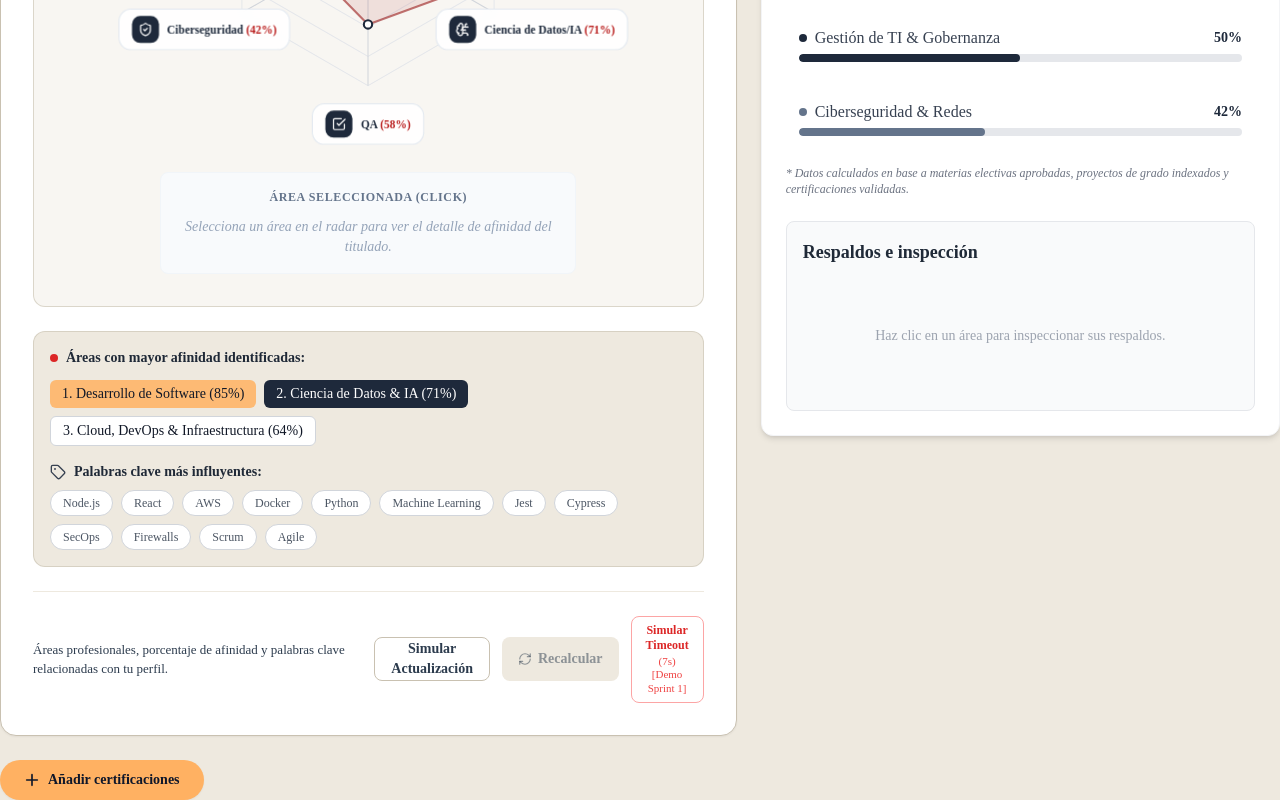
Test: GraduateAffinityView › actualiza las palabras clave después de recalcular
The width and height of the screenshot is (1280, 800).
(page scrolled)
Check: the text "Node.js" is shown, box left=50, top=490, right=113, bottom=516
Check: the text "React" is shown, box left=121, top=490, right=174, bottom=516
What coordinates should you click on to do the following:
click the button with aria-label "simular actualización del radar"
I would click on:
 (432, 659)
Its box is left=374, top=637, right=490, bottom=681.
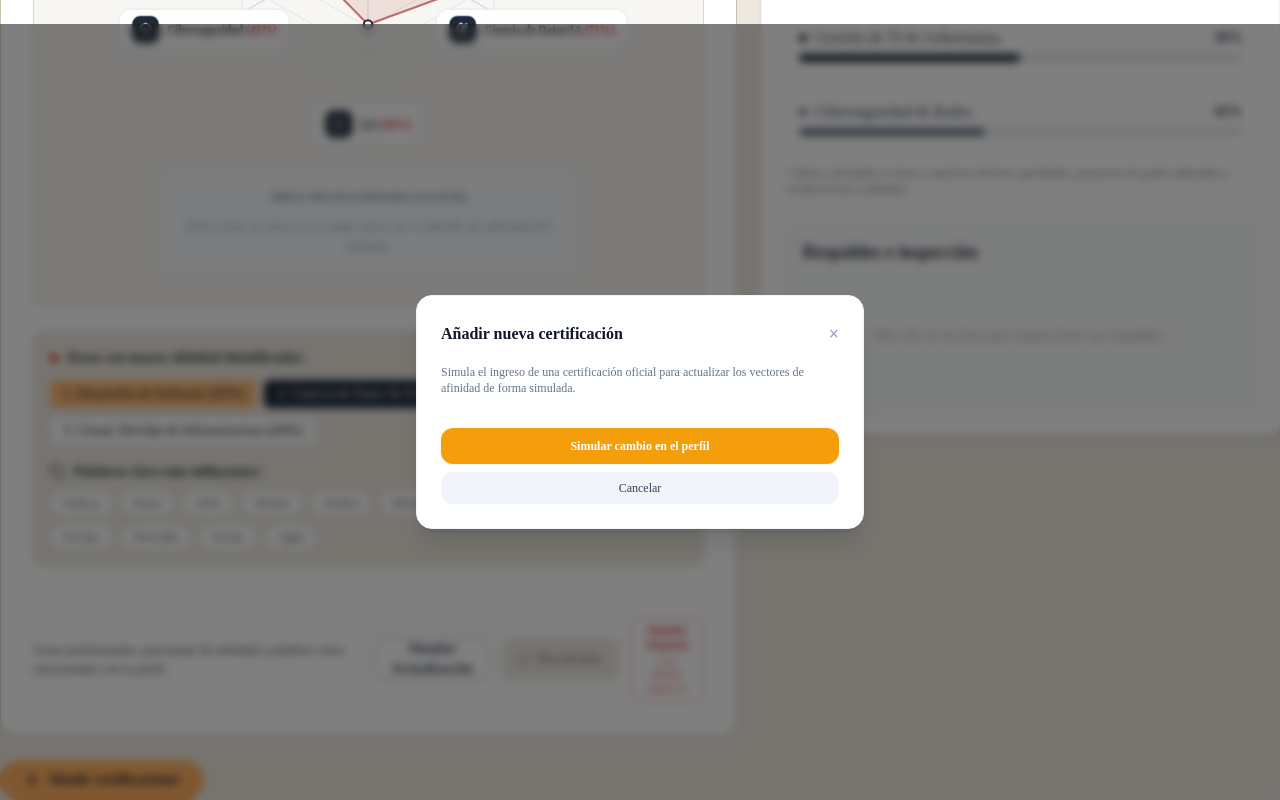
What coordinates should you click on to do the following:
click the button "Simular cambio en el perfil"
I would click on:
 (640, 446)
Its box is left=441, top=428, right=839, bottom=464.
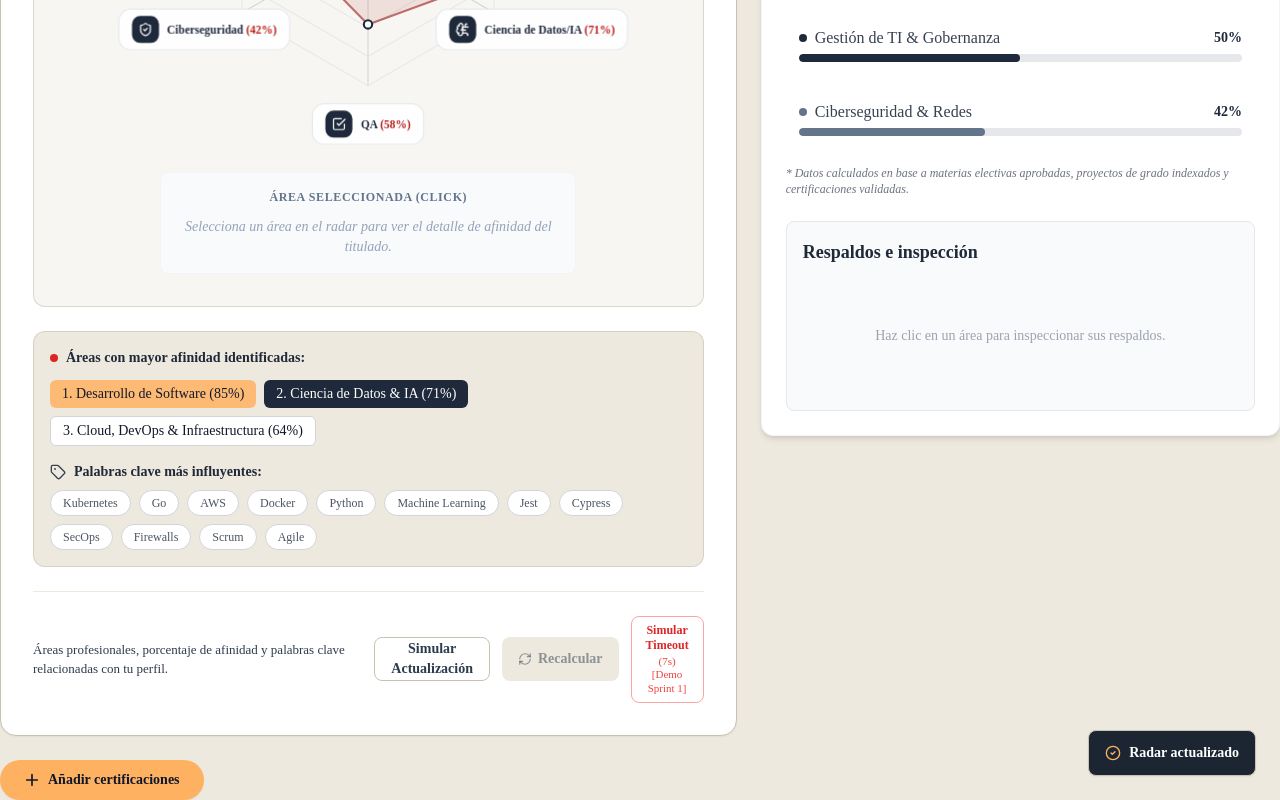
Check: the text "Kubernetes" is shown, box left=50, top=490, right=131, bottom=516
Check: the text "Go" is shown, box left=139, top=490, right=179, bottom=516
Check: the text "Node.js" is gone
